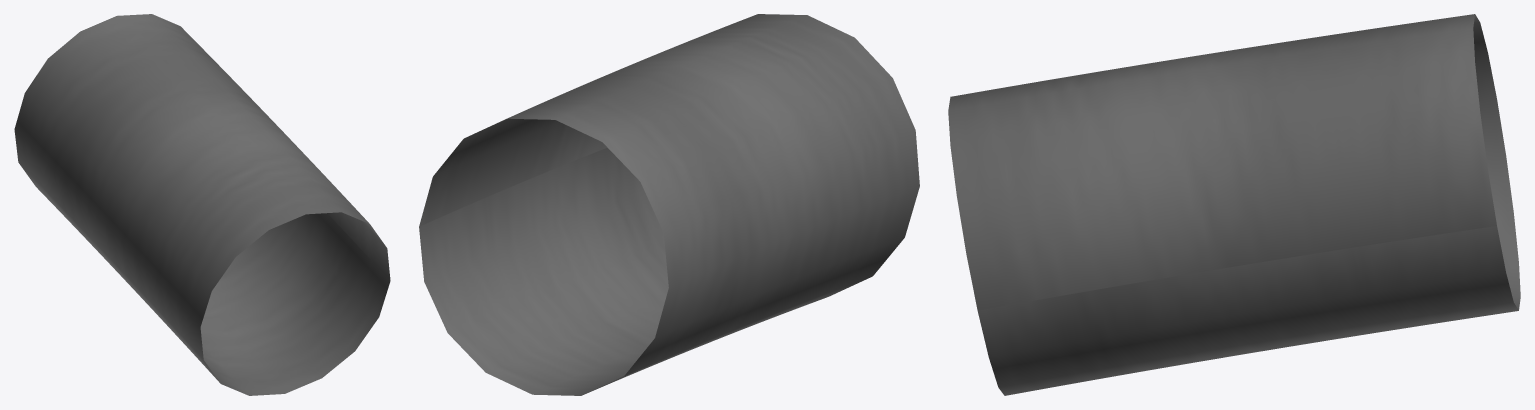
The model's file is mastarmcurve_10x2_c7.obj.
The picture shows the model from 3 angles, left to right: view 1: azimuth 30°, elevation 25°; view 2: azimuth 150°, elevation 25°; view 3: azimuth 270°, elevation 25°; orthographic projection. The views are drawn at different scales.
Visible parts, largest first — view 1: mastarm_10x2_c7; view 2: mastarm_10x2_c7; view 3: mastarm_10x2_c7.
Part boxes in pixels (x1=…): mastarm_10x2_c7: x1=14, y1=14, x2=390, y2=395; mastarm_10x2_c7: x1=419, y1=14, x2=919, y2=395; mastarm_10x2_c7: x1=948, y1=14, x2=1520, y2=395.
Bounding box in the file's own units: 0.5369 × 0.6885 × 1.01.
